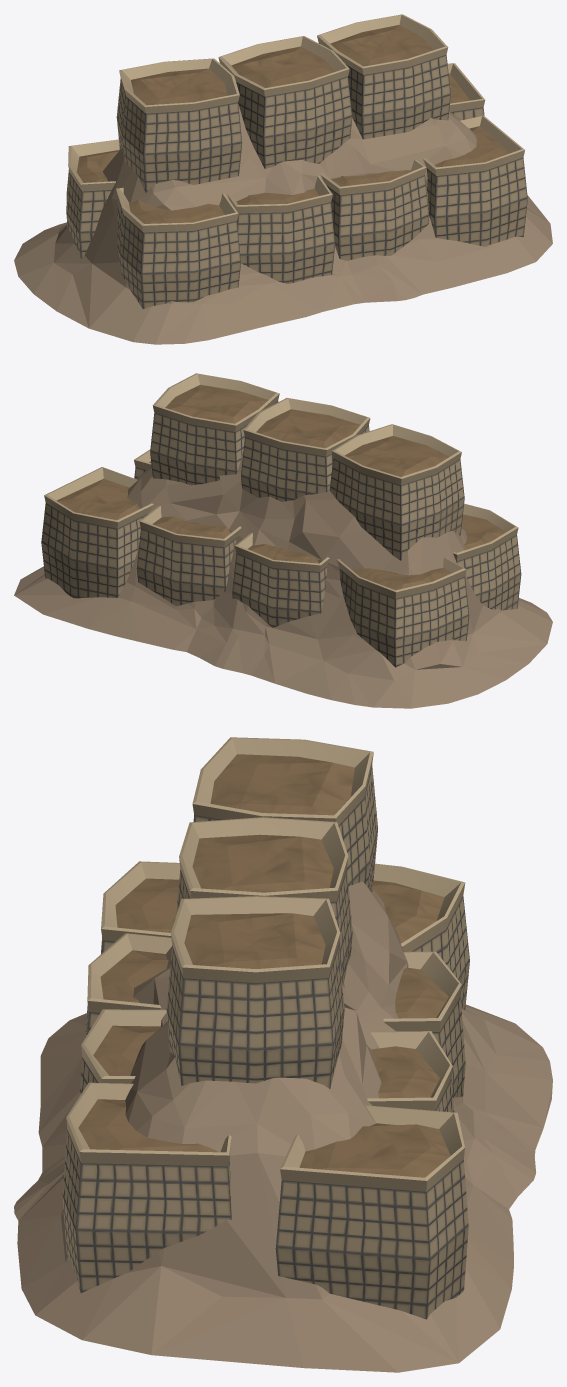
The model's file is SM_Prop_Barrier_Base_Group_02.fbx.
The picture shows the model from 3 angles, top to bottom: view 1: azimuth 30°, elevation 25°; view 2: azimuth 150°, elevation 25°; view 3: azimuth 270°, elevation 25°; orthographic projection. The views are drawn at different scales.
Parts seen in each view (by area): view 1: SM_Prop_Barrier_Base_Group_02; view 2: SM_Prop_Barrier_Base_Group_02; view 3: SM_Prop_Barrier_Base_Group_02.
Part boxes in pixels (bbox=[...]): SM_Prop_Barrier_Base_Group_02: bbox=[14, 14, 552, 344]; SM_Prop_Barrier_Base_Group_02: bbox=[14, 373, 552, 708]; SM_Prop_Barrier_Base_Group_02: bbox=[14, 737, 552, 1372].
Size of the model in its own units: 580 by 222 by 344.
